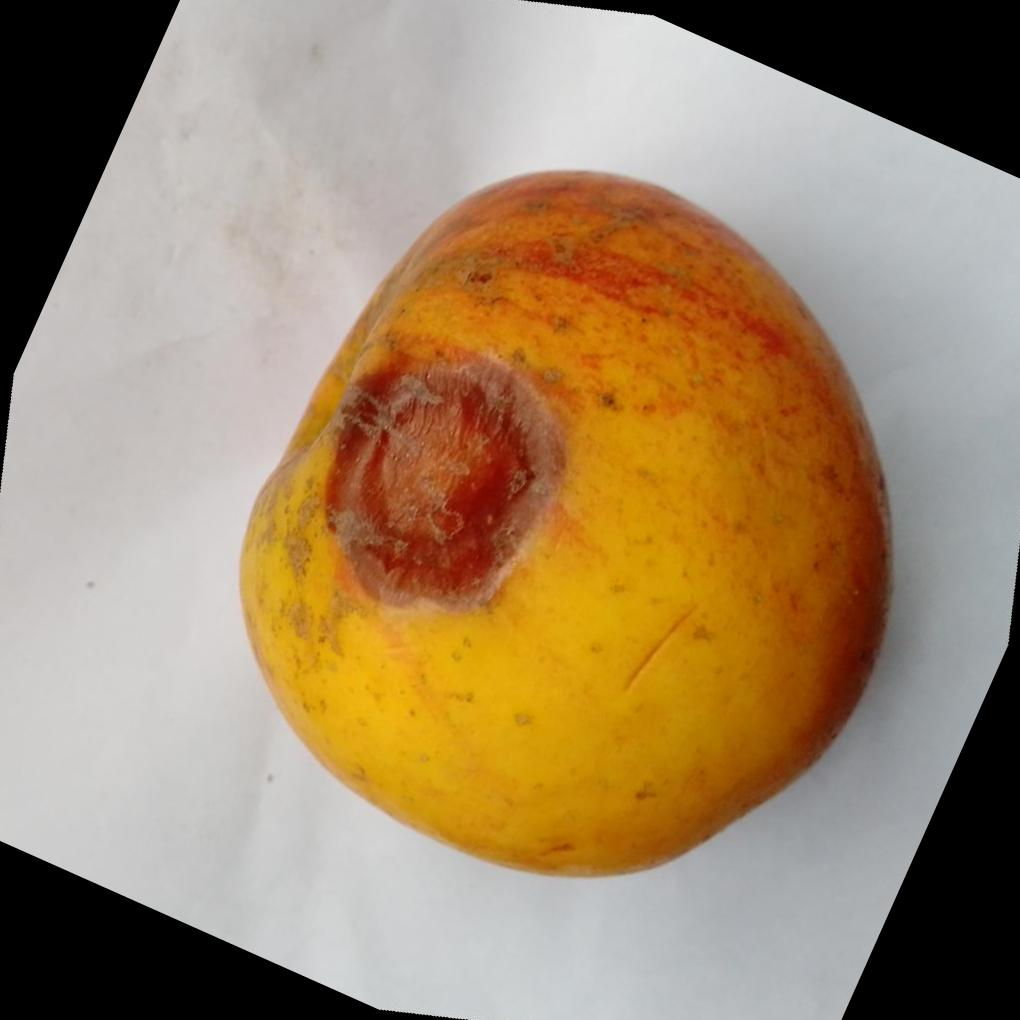FreshOrange: (234, 166, 891, 879)
